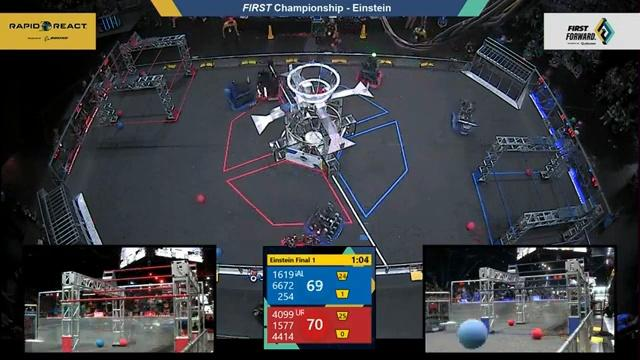robot: (305, 202, 345, 245), (224, 76, 258, 113), (449, 98, 480, 138), (356, 55, 383, 88), (255, 71, 279, 103), (281, 236, 303, 246)
